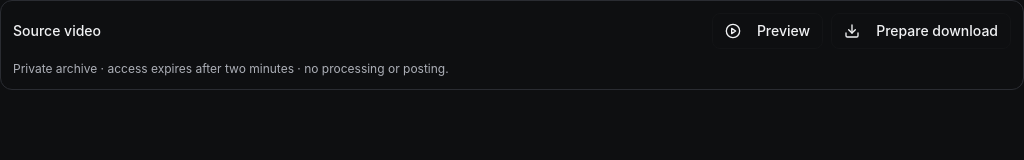
Test case: authorized browser media boundary › keeps access denied, expired and missing-output states actionable with no media sink
This screenshot has width=1024, height=160.
Click the button with aria-label "Preview source video".
click(768, 31)  # box [712,13,823,49]
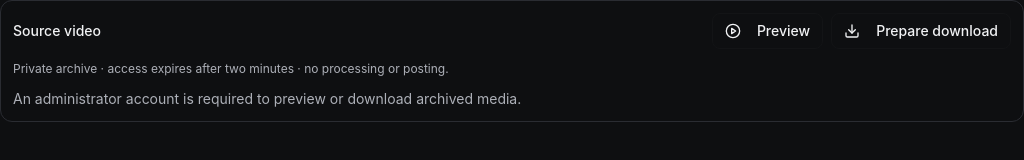
Check: the message shows "An administrator account is required", box [13,90,521,107]
Click the button with aria-label "Preview source video".
click(768, 31)  # box [712,13,823,49]
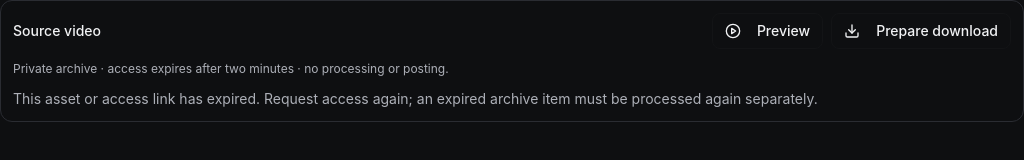
Check: the message shows "has expired", box [13,90,818,107]
Click the button with aria-label "Preview source video".
click(768, 31)  # box [712,13,823,49]
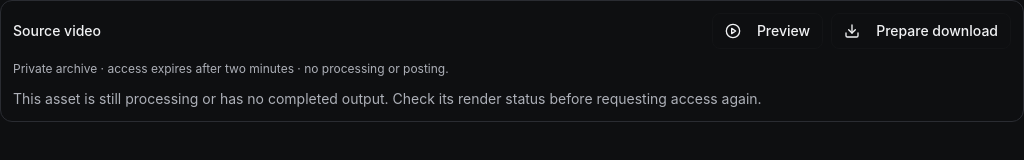
Check: the message shows "still processing", box [13,90,762,107]
